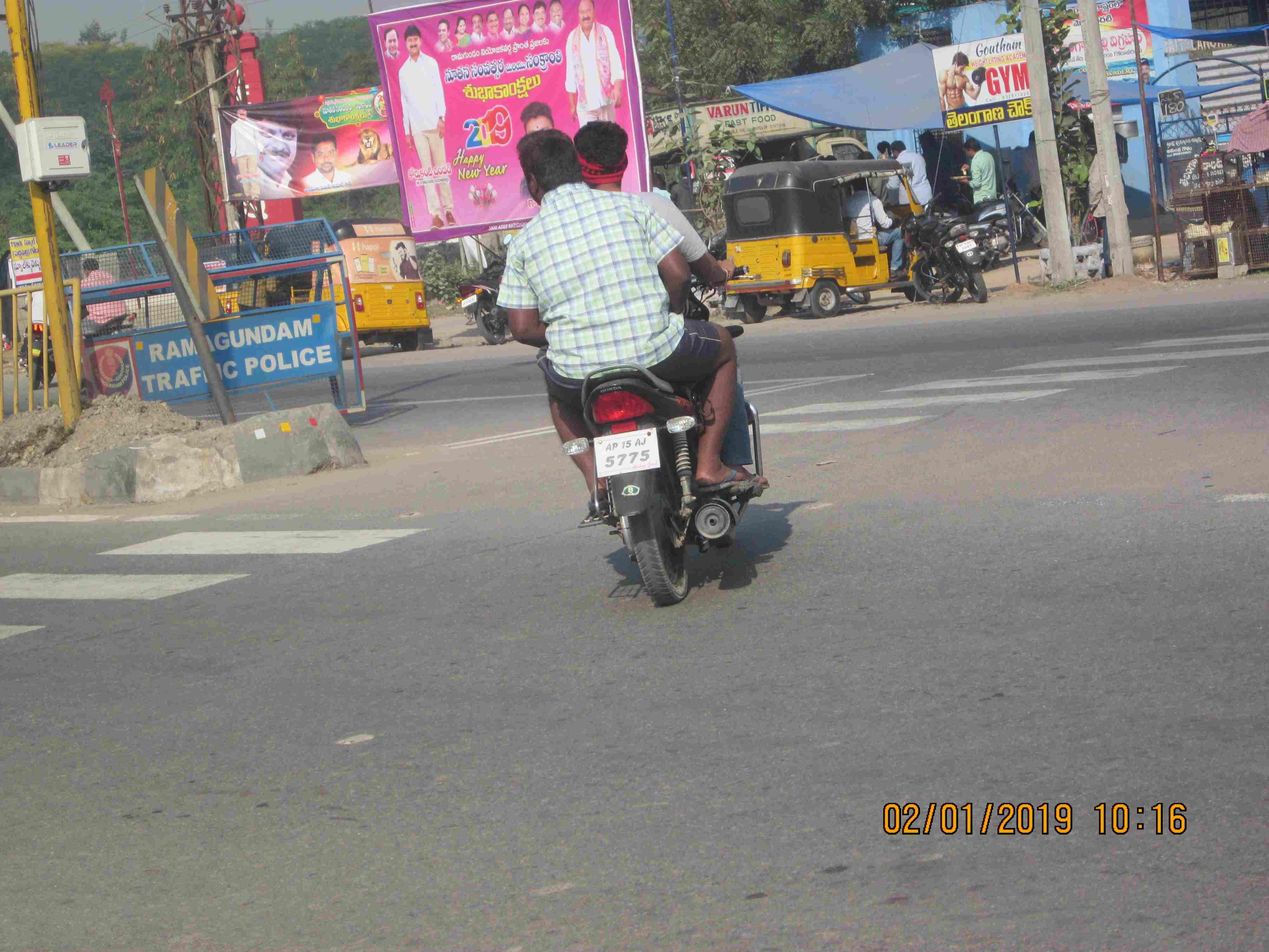plate: (591, 425, 663, 480)
